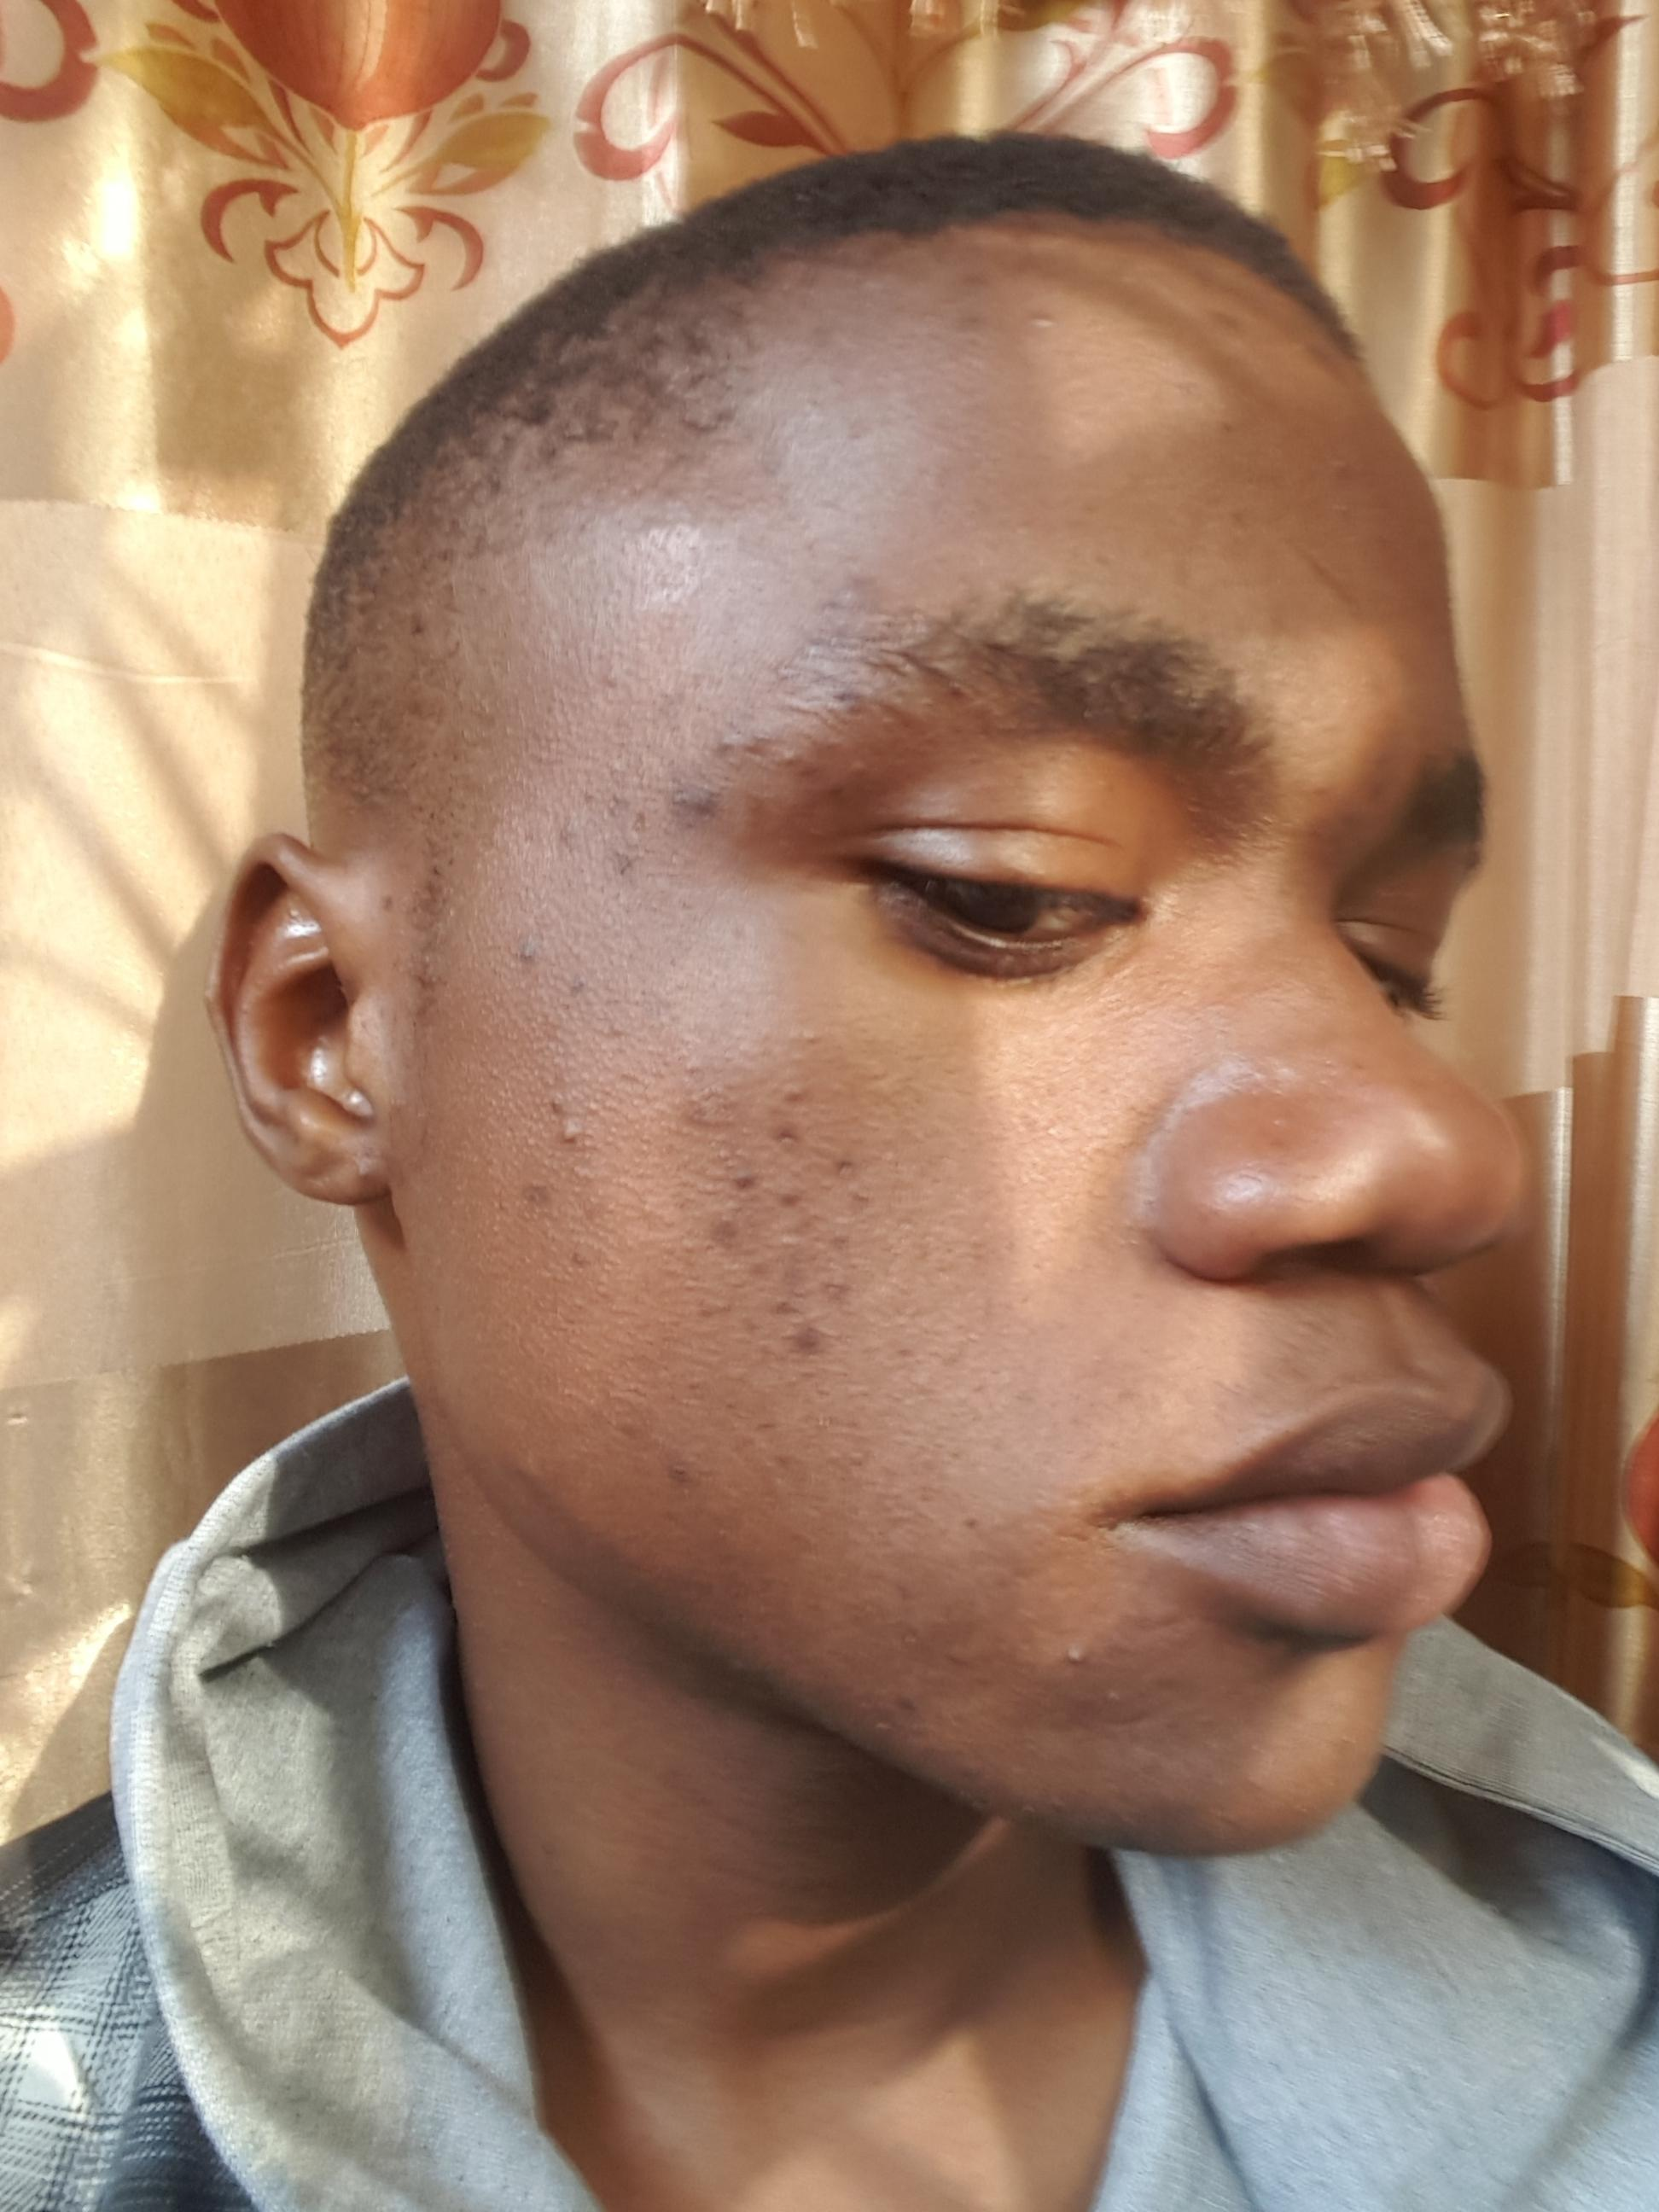Acne: (692, 1202, 859, 1350), (692, 1127, 917, 1200), (664, 752, 739, 819), (918, 1615, 983, 1676), (673, 1078, 735, 1139), (556, 1238, 610, 1294), (669, 1451, 716, 1507), (601, 841, 652, 888), (1047, 1632, 1100, 1677), (1206, 489, 1260, 533), (1093, 1681, 1140, 1730), (540, 1115, 591, 1158), (498, 1170, 554, 1209), (512, 932, 558, 975), (558, 970, 596, 1021), (1321, 444, 1363, 484), (779, 1071, 821, 1109), (1021, 300, 1066, 334), (950, 308, 988, 341), (1211, 415, 1237, 435)
